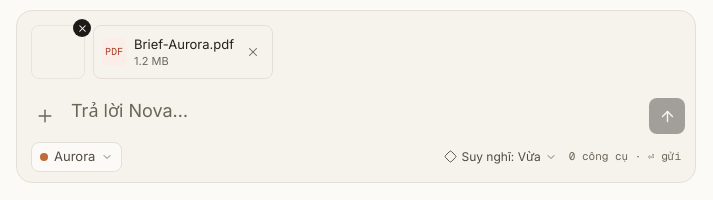
Test: <Composer> — cap-menu items › removes a staged file from its chip
Click the button named "Bỏ Brief-Aurora.pdf": coordinates (253, 52) [246, 45, 260, 59]
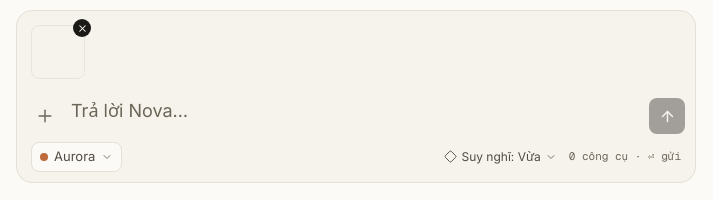
Expected: the button "Brief-Aurora.pdf" is gone
